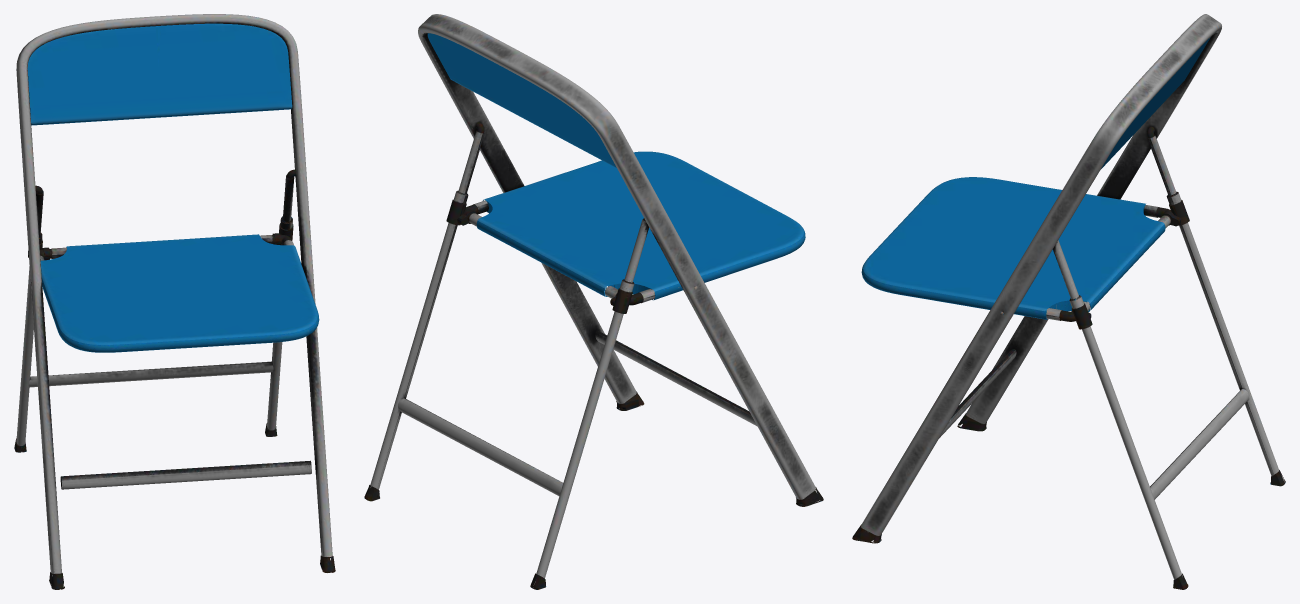
Rendered from chair.glb.
3 views of the same model, side by side, from view 1: azimuth 30°, elevation 25°; view 2: azimuth 150°, elevation 25°; view 3: azimuth 270°, elevation 25° (orthographic). The views are drawn at different scales.
Parts seen in each view (by area): view 1: Color1, Telaio1, Neri1; view 2: Color1, Telaio1, Neri1; view 3: Telaio1, Color1, Neri1.
Boxes of the visible parts, bbox=[...] form: Color1: bbox=[27, 23, 319, 352]; Telaio1: bbox=[16, 14, 332, 574]; Neri1: bbox=[14, 169, 335, 589]; Color1: bbox=[427, 33, 805, 300]; Telaio1: bbox=[370, 14, 815, 578]; Neri1: bbox=[364, 122, 823, 589]; Telaio1: bbox=[861, 14, 1279, 579]; Color1: bbox=[861, 37, 1210, 319]; Neri1: bbox=[852, 126, 1285, 589].
Size of the model in its own units: 675 by 888 by 740.
1 material, 1 textured.
